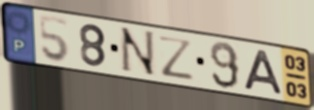5: (37, 12, 72, 65)
8: (77, 22, 108, 69)
9: (208, 40, 242, 92)
A: (242, 48, 286, 97)
N: (118, 26, 159, 79)
Z: (156, 34, 196, 83)
